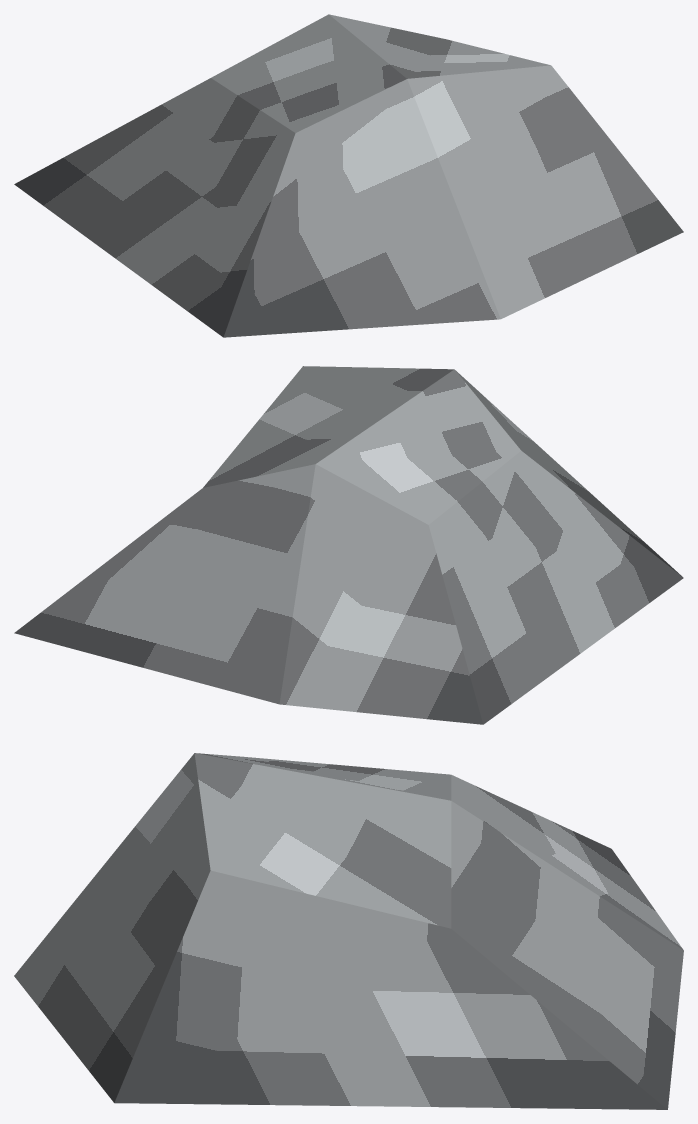
File: Ext-Piedrecita2.fbx
3 views of the same model, one above another, from view 1: azimuth 30°, elevation 25°; view 2: azimuth 150°, elevation 25°; view 3: azimuth 270°, elevation 25° (orthographic). The views are drawn at different scales.
Parts seen in each view (by area): view 1: cuboid; view 2: cuboid; view 3: cuboid.
Boxes of the visible parts, bbox=[...] form: cuboid: bbox=[14, 14, 683, 337]; cuboid: bbox=[14, 366, 683, 724]; cuboid: bbox=[14, 753, 683, 1109].
Bounding box in the file's own units: 22 × 8.43 × 23.86.
Materials: 1 (1 with a texture image).
